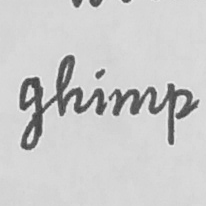g: (15, 75, 47, 152)
h: (53, 51, 87, 118)
i: (90, 67, 108, 117)
m: (110, 83, 159, 118)
p: (164, 82, 195, 147)
